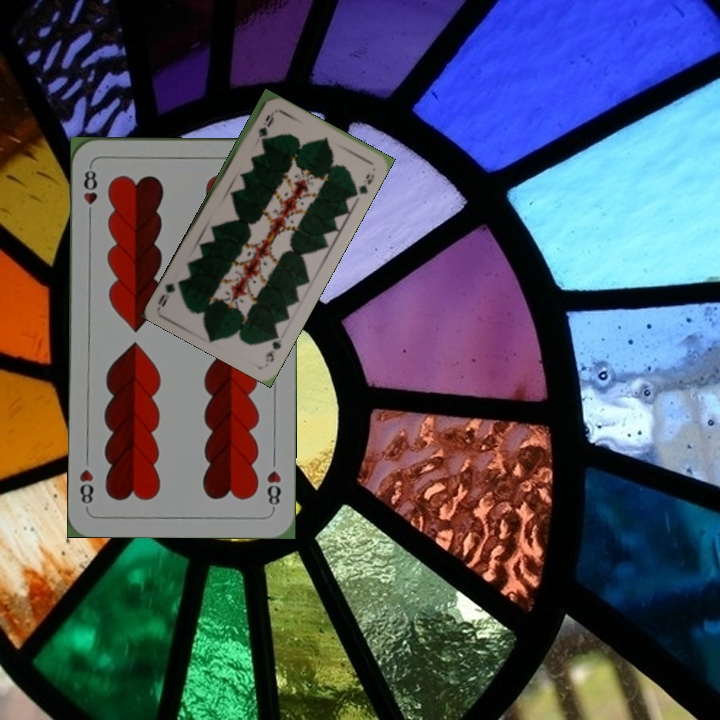G9: (261, 327, 284, 365), (254, 109, 275, 140)
H8: (80, 162, 100, 221), (262, 466, 283, 512)
